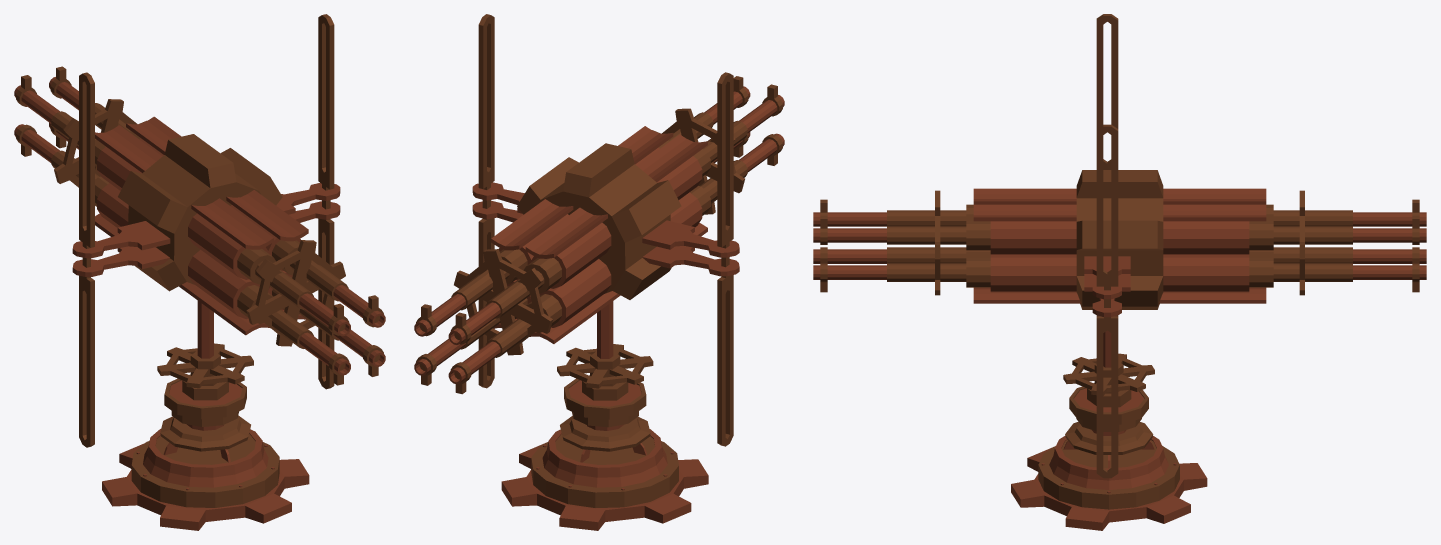
File: Gun_10.glb
3 renders of one model, left to right at view 1: azimuth 30°, elevation 25°; view 2: azimuth 150°, elevation 25°; view 3: azimuth 270°, elevation 25°, orthographic. The views are drawn at different scales.
Parts seen in each view (by area): view 1: Gun_10_Gun, Gun_10_Base, Gun_10_Mid; view 2: Gun_10_Gun, Gun_10_Base, Gun_10_Mid; view 3: Gun_10_Gun, Gun_10_Base, Gun_10_Mid.
Boxes of the visible parts, box(x1,y1,x2,y2) form: Gun_10_Gun: box(14, 14, 385, 447); Gun_10_Base: box(102, 374, 309, 530); Gun_10_Mid: box(157, 300, 253, 400); Gun_10_Gun: box(414, 14, 784, 446); Gun_10_Base: box(501, 378, 708, 530); Gun_10_Mid: box(557, 301, 653, 400); Gun_10_Gun: box(813, 14, 1426, 478); Gun_10_Base: box(1011, 383, 1207, 530); Gun_10_Mid: box(1063, 315, 1154, 407).
Bounding box in the file's own units: 2.02 × 3.25 × 4.3.
